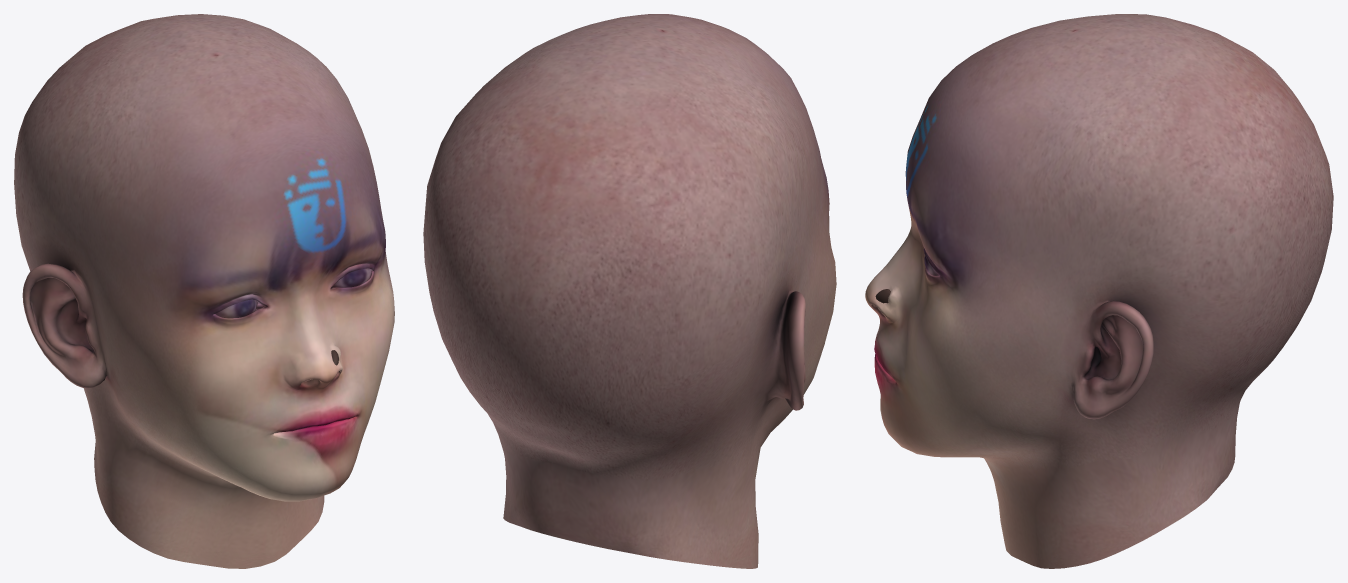
3 views of the same model, side by side, from view 1: azimuth 30°, elevation 25°; view 2: azimuth 150°, elevation 25°; view 3: azimuth 270°, elevation 25° (orthographic). The views are drawn at different scales.
Parts seen in each view (by area): view 1: Head; view 2: Head; view 3: Head.
Boxes of the visible parts, box(x1,y1,x2,y2) form: Head: box(14, 14, 394, 568); Head: box(423, 14, 836, 568); Head: box(865, 14, 1333, 568).
Size of the model in its own units: 0.1896 by 0.2655 by 0.2203.
